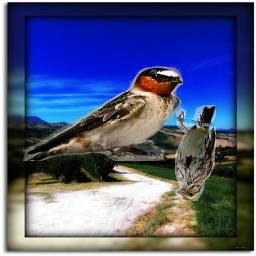Sparrow: (176, 105, 217, 201)
Swallow: (23, 65, 184, 161)
